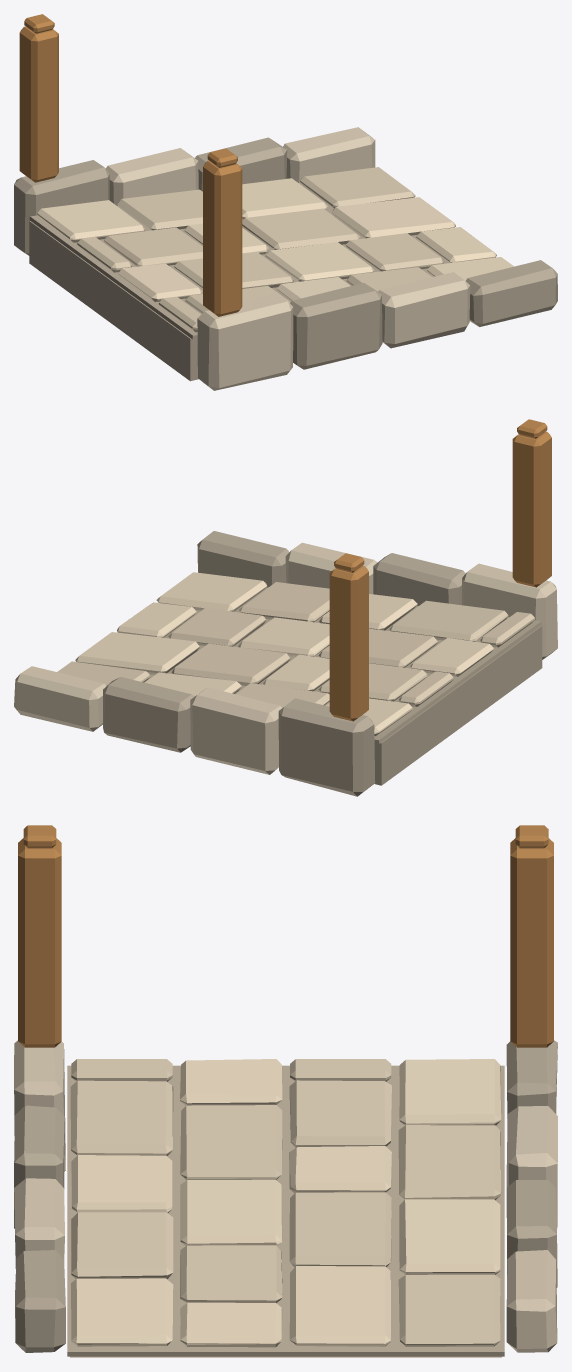
The model's file is footbridge_approach_landing.glb.
The picture shows the model from 3 angles, top to bottom: view 1: azimuth 30°, elevation 25°; view 2: azimuth 150°, elevation 25°; view 3: azimuth 270°, elevation 25°; orthographic projection. The views are drawn at different scales.
Parts seen in each view (by area): view 1: footbridge_approach_landing; view 2: footbridge_approach_landing; view 3: footbridge_approach_landing.
Part boxes in pixels (x1,y1,x2,y2): footbridge_approach_landing: (14, 14, 557, 390); footbridge_approach_landing: (14, 419, 557, 796); footbridge_approach_landing: (14, 825, 557, 1357).
Bounding box in the file's own units: 2 × 1.25 × 1.99.
